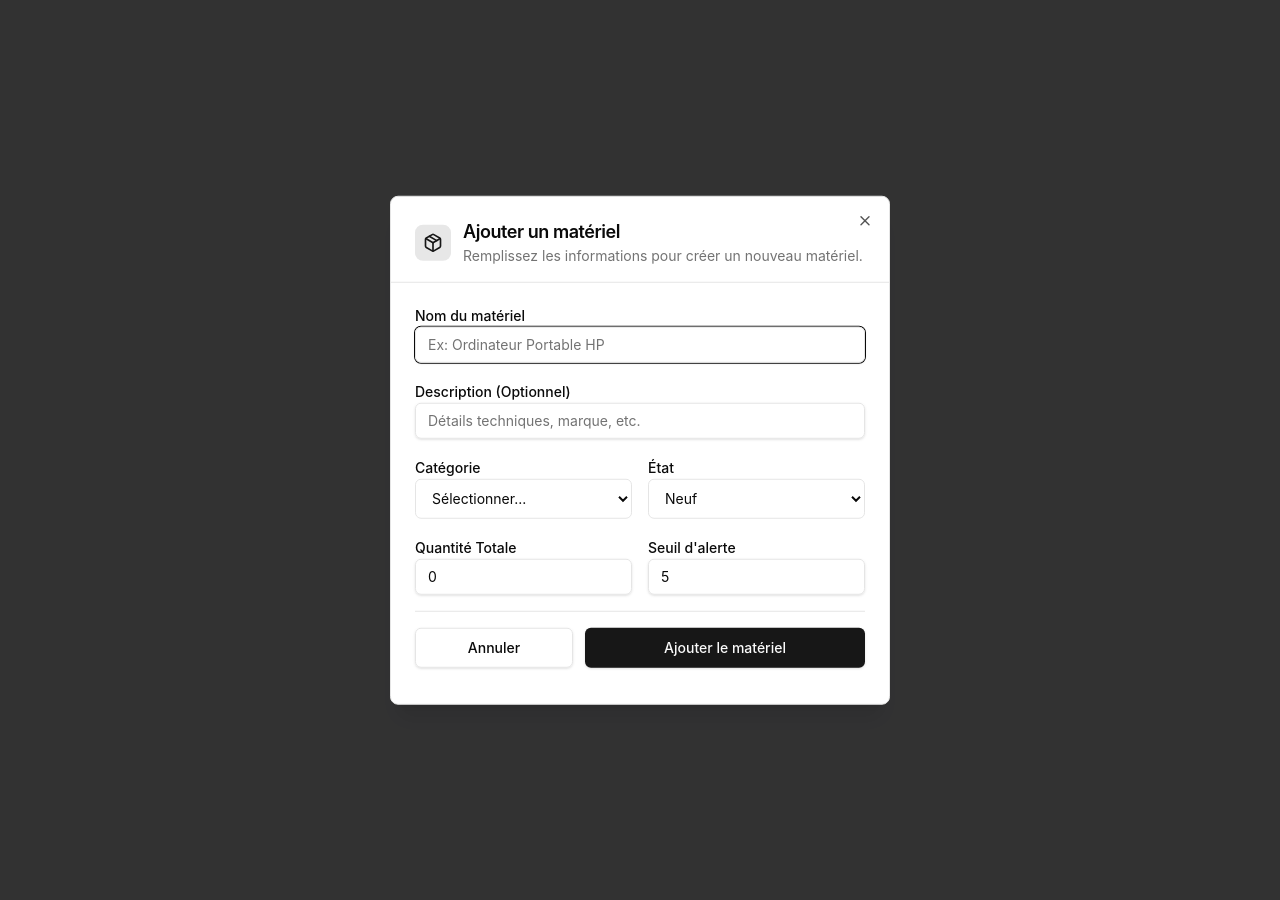
Test: MaterielModal Component › validates required fields on submit
Click the button "Ajouter le matériel" at (725, 647), box [585, 627, 865, 667]
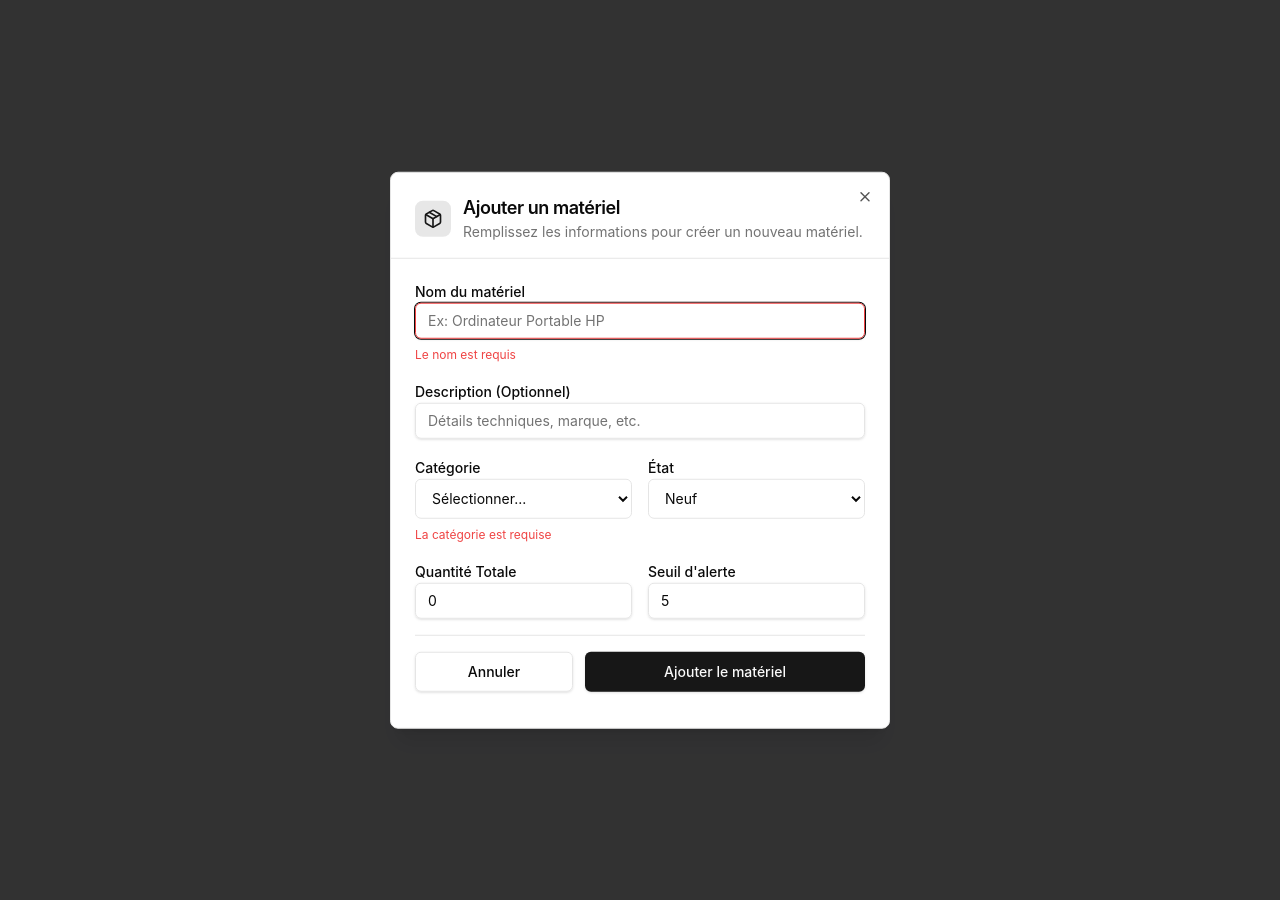
Now the text "Le nom est requis" is shown, box [415, 346, 516, 361]
Now the text "La catégorie est requise" is shown, box [415, 526, 552, 541]
